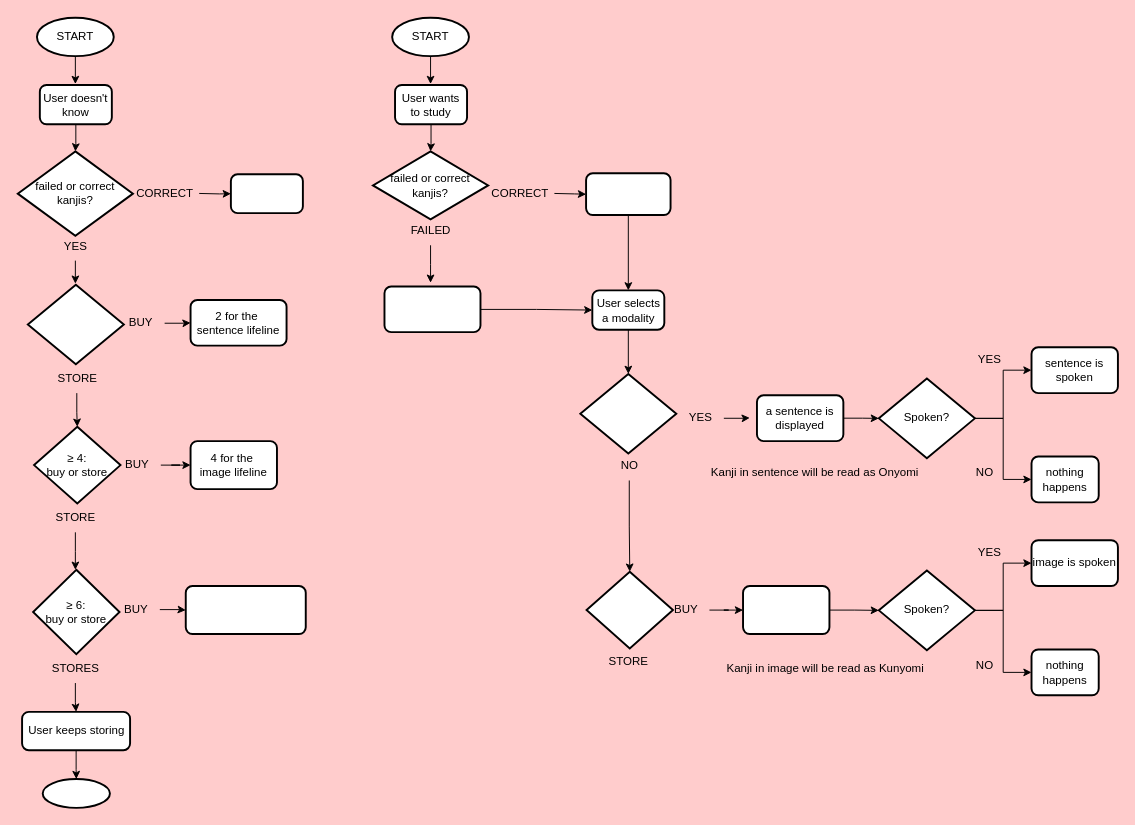
This 1135x825 diagram has some shape labels left out. The centre of each missing label's shape, as x and y in pixels:
"6 for the pronunciation lifeline" goes at point (245, 610).
"END" goes at point (75, 793).
"image is displayed" goes at point (786, 610).
"image?" goes at point (629, 609).
"List of correct ones displayed" goes at point (628, 194).
"List of failed ones displayed" goes at point (432, 309).
"NO lifelines displayed" goes at point (266, 193).
"Sentence?" goes at point (628, 413).
"≥ 2 points: buy or store" goes at point (75, 324).
